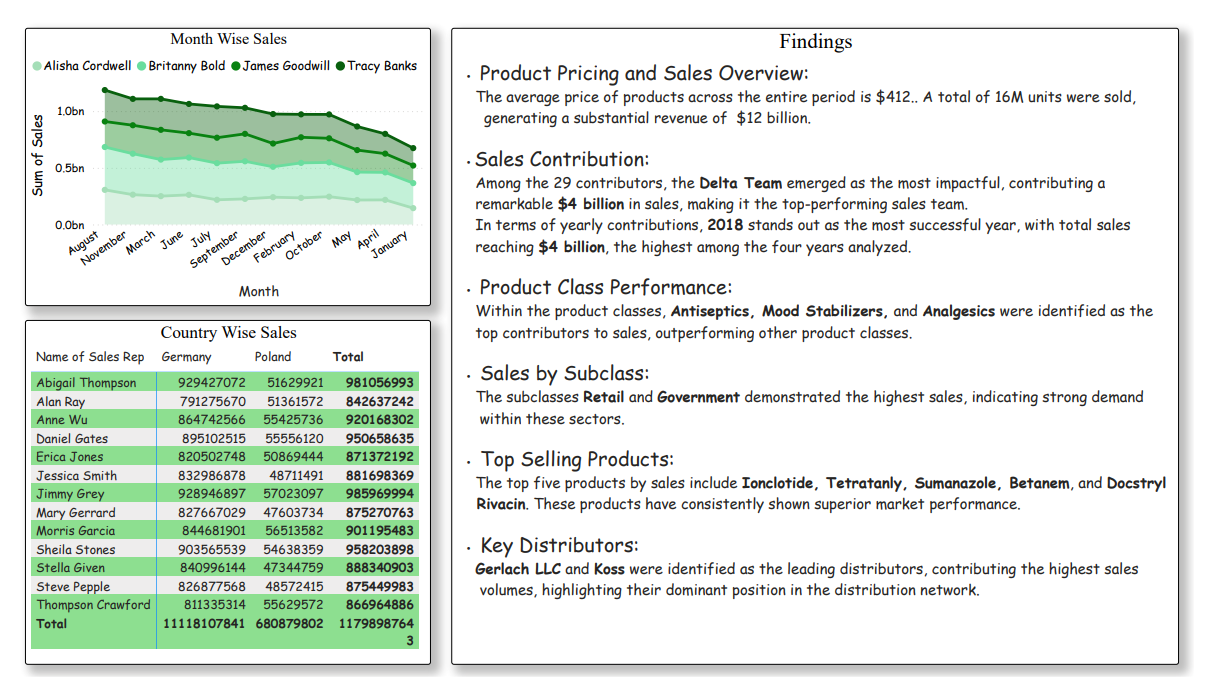

The page's visual inventory and layout, read from the dashboard file:
{"tool":"powerbi","page":{"name":"Page 4","canvas":[1280,720],"ordinal":3},"visuals":[{"type":"stackedAreaChart","title":"Month Wise Sales","fields":{"Category":["pharma-data.Month"],"Y":["Sum(pharma-data.Sales)"],"Series":["pharma-data.Manager"]},"box":[16.4,18,438.9,301.3],"z":0},{"type":"pivotTable","title":"Country Wise Sales","fields":{"Values":["Sum(pharma-data.Sales)"],"Rows":["pharma-data.Name of Sales Rep"],"Columns":["pharma-data.Country"]},"box":[16.4,334.1,438.9,373.4],"z":1000},{"type":"textbox","title":"Findings ","box":[476.6,18,787.7,689.4],"z":2000}]}

Visuals, with their boxes in screenshot pixels (x1, y1, x2, y2), scaled from the page's 1280x720 canvas onto the 1206x687 screenshot:
"Month Wise Sales" stackedAreaChart: rect(15, 17, 429, 305)
"Country Wise Sales" pivotTable: rect(15, 319, 429, 675)
"Findings " textbox: rect(449, 17, 1191, 675)
